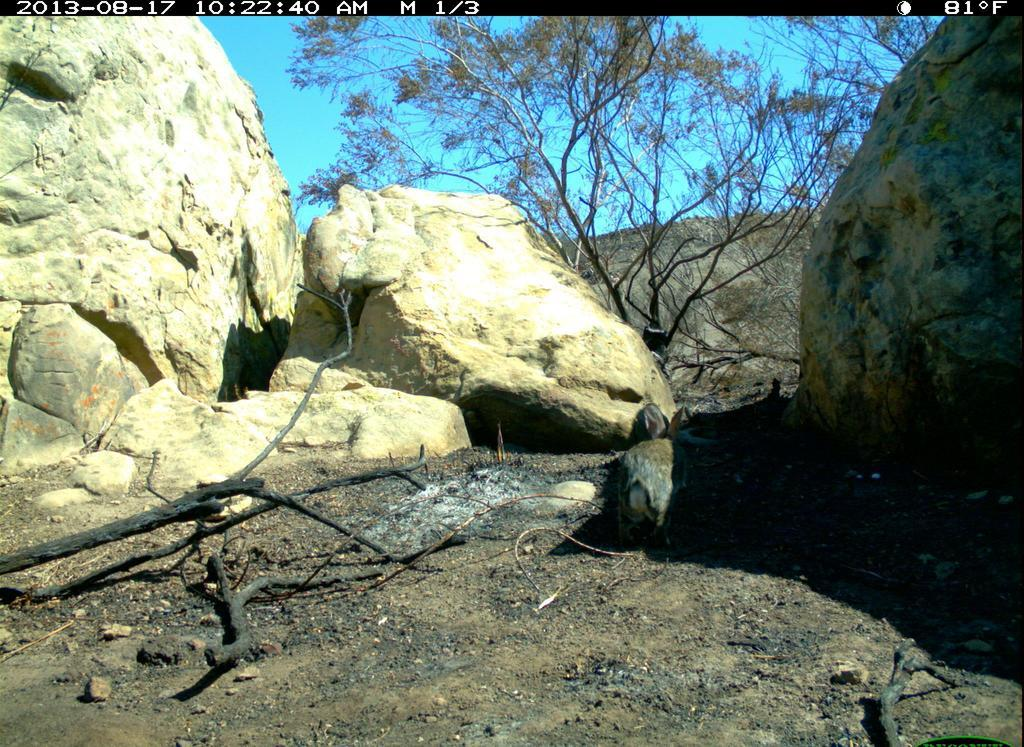rabbit: (602, 401, 708, 562)
